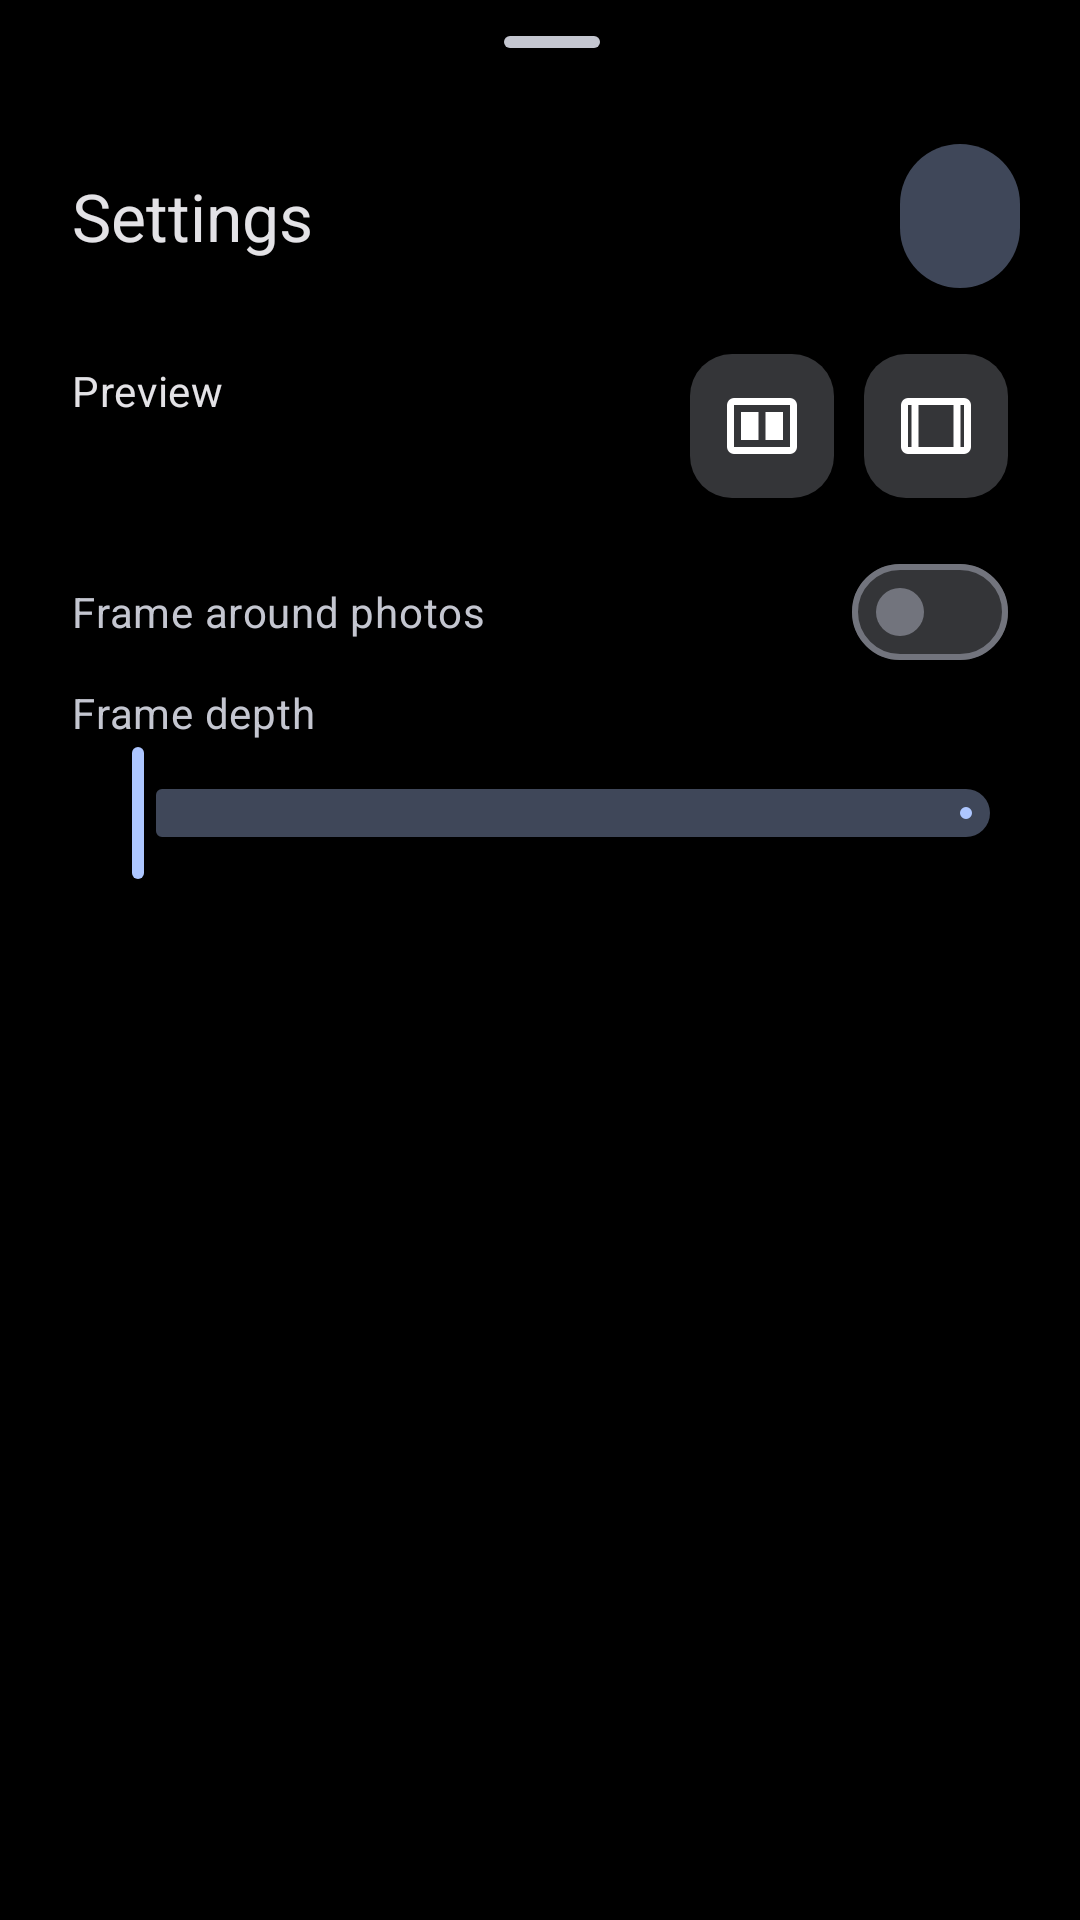

Icons on this 1080 x 1920 Android screen, each with the point to tap as point (x, y):
Side by side: point (762, 426)
